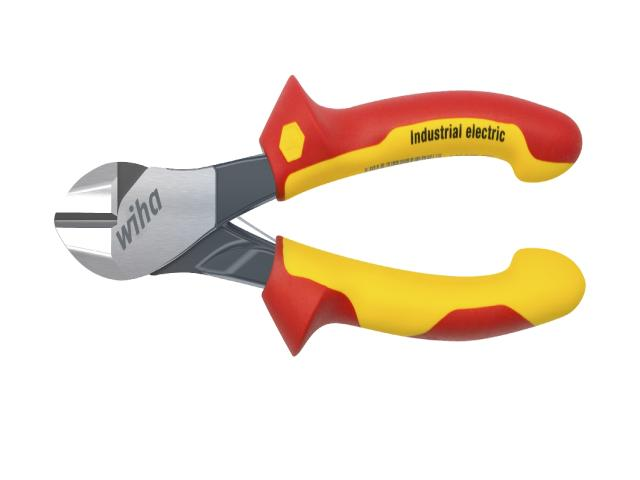Cutting pliers: (55, 76, 585, 355)
